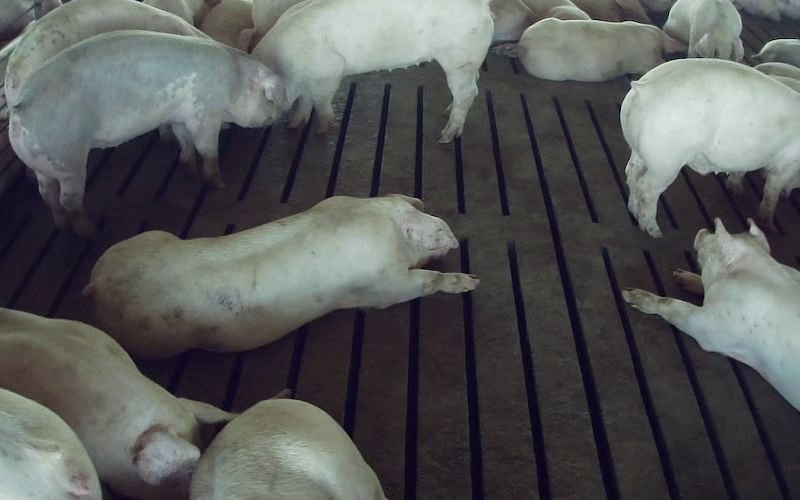pig: (85, 195, 477, 358), (10, 31, 286, 234), (253, 0, 493, 142), (623, 218, 799, 410), (621, 58, 799, 236), (5, 0, 208, 107), (517, 18, 683, 81), (663, 0, 743, 61)
